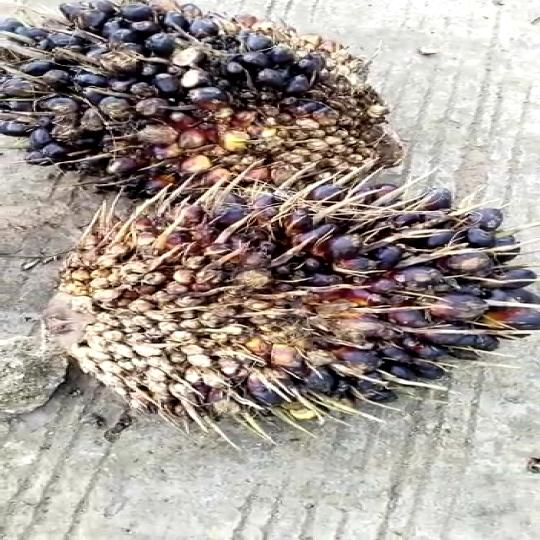mentah: (34, 186, 540, 425), (0, 0, 394, 193)
